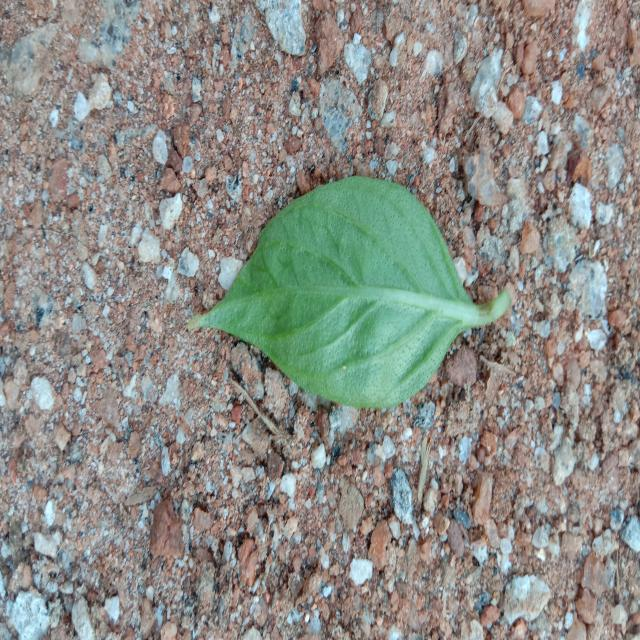kamakasturi: (189, 177, 510, 407)
